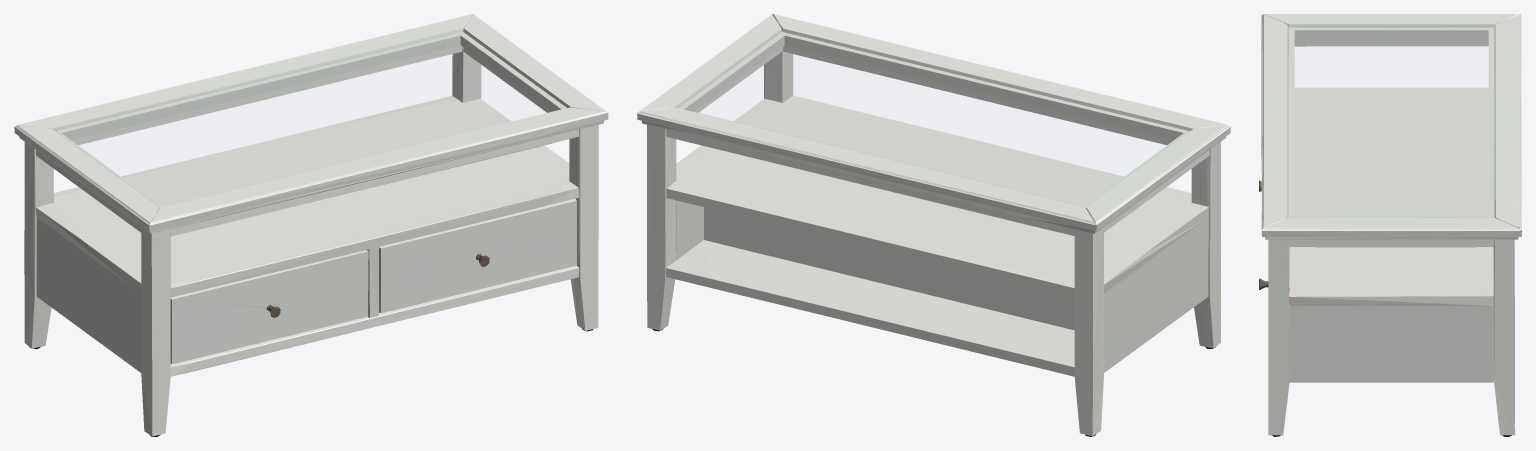
3 renders of one model, left to right at view 1: azimuth 30°, elevation 25°; view 2: azimuth 150°, elevation 25°; view 3: azimuth 270°, elevation 25°, orthographic. The views are drawn at different scales.
Visible parts, largest first — view 1: dda3a25d-8979-4adf-846a-2d8f95d9db0e; view 2: dda3a25d-8979-4adf-846a-2d8f95d9db0e; view 3: dda3a25d-8979-4adf-846a-2d8f95d9db0e.
Boxes of the visible parts, x1,y1,x2,y2 form: dda3a25d-8979-4adf-846a-2d8f95d9db0e: (14,14,608,436); dda3a25d-8979-4adf-846a-2d8f95d9db0e: (637,14,1230,436); dda3a25d-8979-4adf-846a-2d8f95d9db0e: (1259,14,1521,436).
Size of the model in its own units: 1.07 by 0.49 by 0.55.
2 materials, 1 textured.
